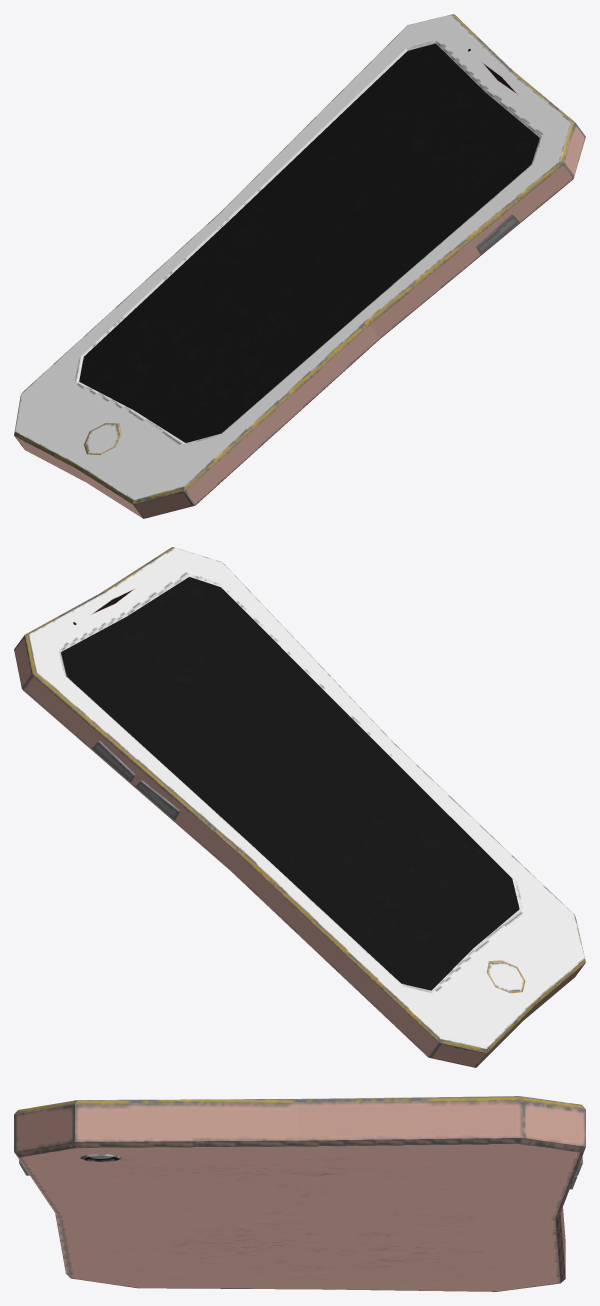
File: phone-preview.glb
3 views of the same model, one above another, from view 1: azimuth 30°, elevation 25°; view 2: azimuth 150°, elevation 25°; view 3: azimuth 270°, elevation 25° (orthographic). The views are drawn at different scales.
Parts seen in each view (by area): view 1: Object_2; view 2: Object_2; view 3: Object_2.
Part boxes in pixels (left/top/right/bottom): Object_2: left=14, top=14, right=585, bottom=518; Object_2: left=14, top=547, right=585, bottom=1067; Object_2: left=14, top=1096, right=585, bottom=1291.
Bounding box in the file's own units: 17.1 × 11.63 × 10.98.
Materials: 1 (1 with a texture image).
